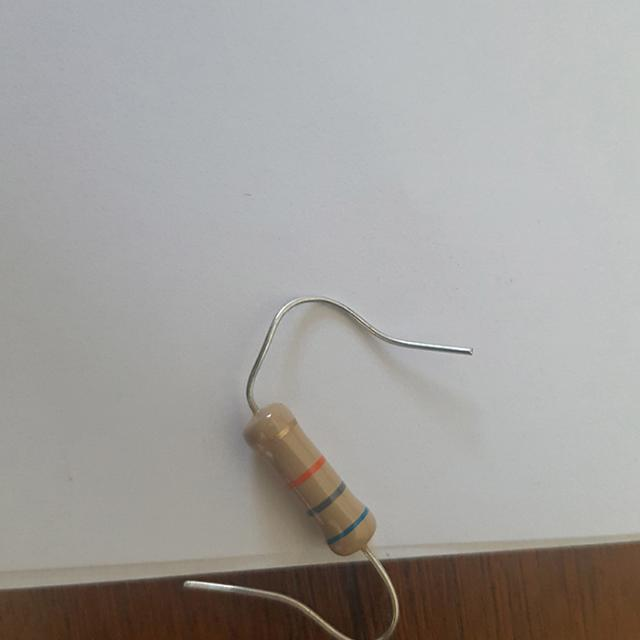blue: (325, 507, 368, 544)
gold: (261, 420, 294, 443)
grey: (311, 483, 346, 515)
orange: (290, 457, 324, 487)
resistor: (222, 381, 399, 570)
